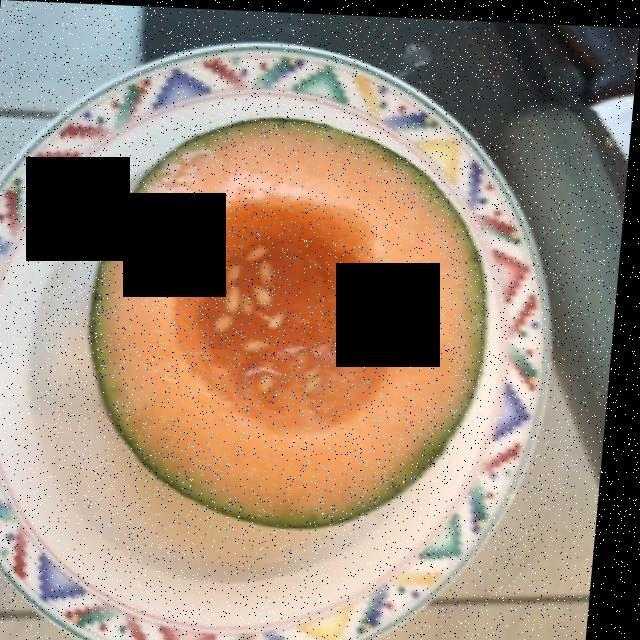melon: (100, 122, 483, 521)
